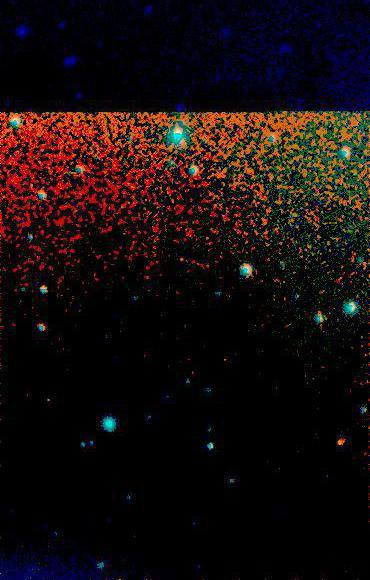star: (328, 424, 358, 454)
